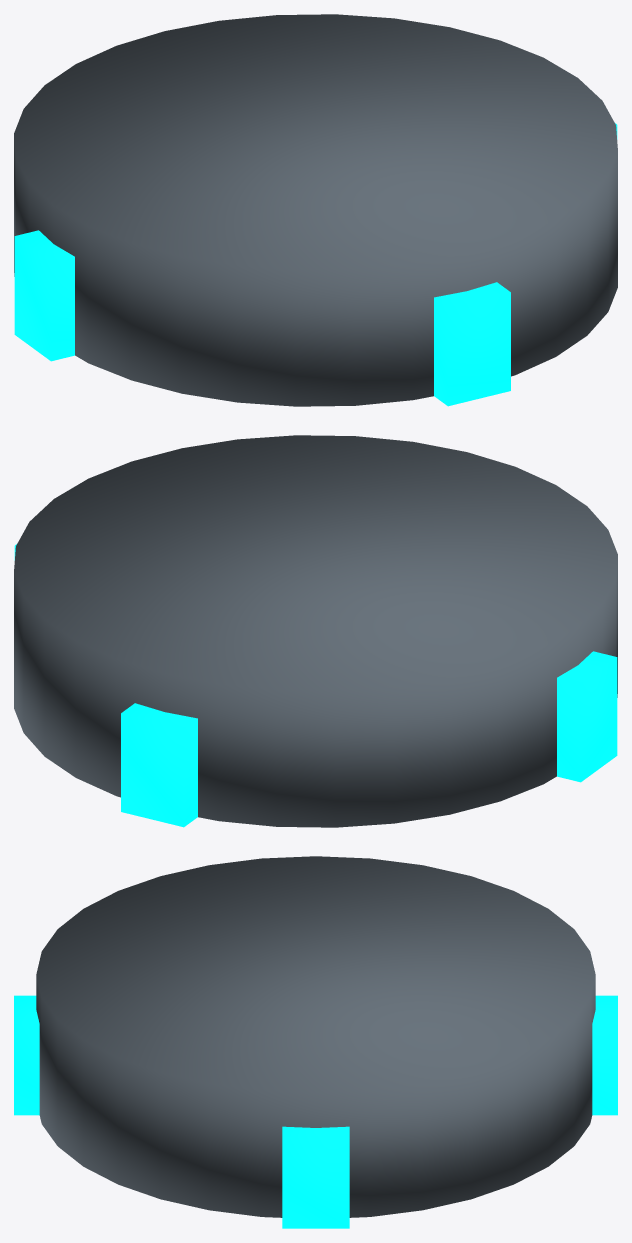
The model's file is TractorBeamEmitter.fbx.
3 renders of one model, top to bottom at view 1: azimuth 30°, elevation 25°; view 2: azimuth 150°, elevation 25°; view 3: azimuth 270°, elevation 25°, orthographic. The views are drawn at different scales.
Parts seen in each view (by area): view 1: TractorBeamEmitter; view 2: TractorBeamEmitter; view 3: TractorBeamEmitter.
Boxes of the visible parts, x1,y1,x2,y2 form: TractorBeamEmitter: [14, 14, 617, 406]; TractorBeamEmitter: [14, 435, 617, 827]; TractorBeamEmitter: [14, 856, 617, 1228].
Bounding box in the file's own units: 10.8 × 2.7 × 10.8.
